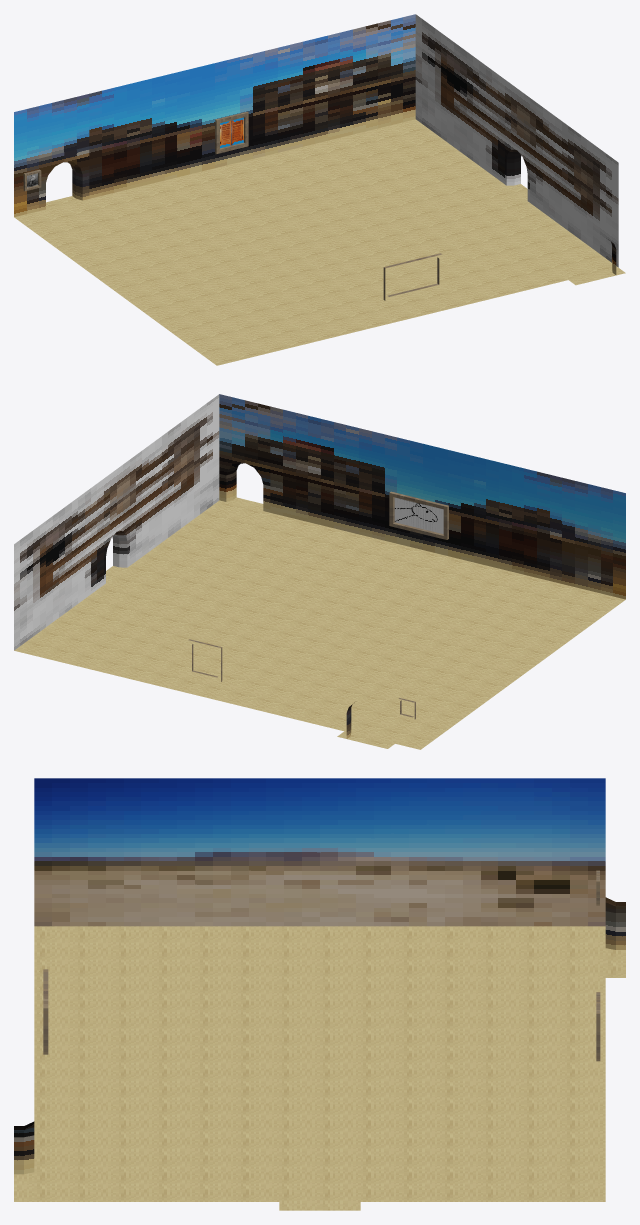
Rendered from Room1.glb.
The picture shows the model from 3 angles, top to bottom: view 1: azimuth 30°, elevation 25°; view 2: azimuth 150°, elevation 25°; view 3: azimuth 270°, elevation 25°; orthographic projection. The views are drawn at different scales.
Parts seen in each view (by area): view 1: Floor, Wall2, Wall4, Frame.001, Canvas.001; view 2: Floor, Wall3, Wall4, Frame.002, CanvasLeft.001, CanvasRight.001; view 3: Floor, Wall1, Wall3, Wall2.
Part boxes in pixels (<box>): Floor: <box>14,119,625,365</box>; Wall2: <box>14,14,415,216</box>; Wall4: <box>415,14,618,267</box>; Frame.001: <box>215,111,248,153</box>; Canvas.001: <box>220,117,243,148</box>; Floor: <box>14,497,625,749</box>; Wall3: <box>219,394,625,599</box>; Wall4: <box>14,394,219,650</box>; Frame.002: <box>389,491,448,539</box>; CanvasLeft.001: <box>394,497,419,528</box>; CanvasRight.001: <box>420,503,443,533</box>; Floor: <box>14,926,625,1210</box>; Wall1: <box>34,778,605,926</box>; Wall3: <box>14,1121,34,1174</box>; Wall2: <box>605,897,625,949</box>.
Bounding box in the file's own units: 16.5 × 4 × 15.
12 materials, 11 textured.
